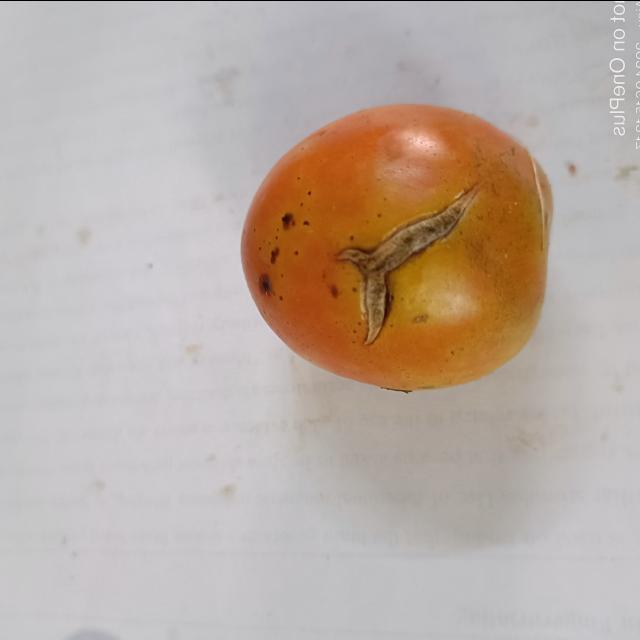Bacterial_Spot: (339, 160, 476, 342), (252, 244, 286, 298), (273, 203, 297, 235)
